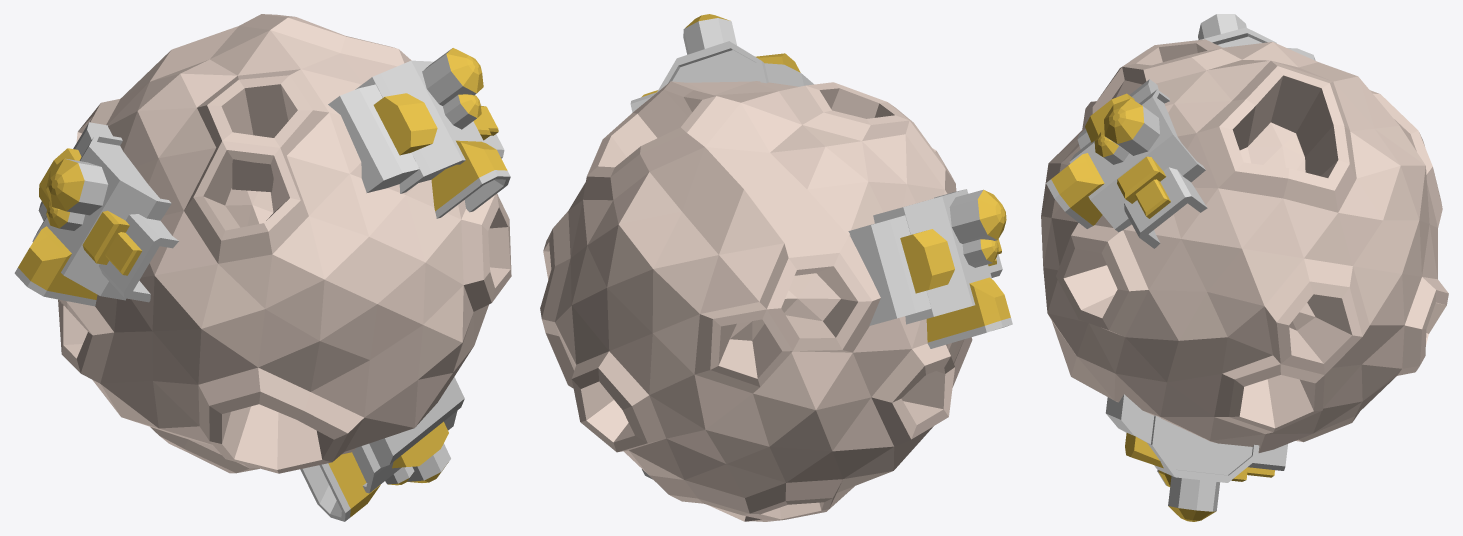
Rendered from moon_mine.fbx.
The picture shows the model from 3 angles, left to right: view 1: azimuth 30°, elevation 25°; view 2: azimuth 150°, elevation 25°; view 3: azimuth 270°, elevation 25°; orthographic projection. The views are drawn at different scales.
Visible parts, largest first — view 1: Icosphere.001, Mine1|Icosphere.002|Dupli|, Mine2|Icosphere.002|Dupli|, Mine3|Icosphere.002|Dupli|; view 2: Icosphere.001, Mine2|Icosphere.002|Dupli|, Mine1|Icosphere.002|Dupli|; view 3: Icosphere.001, Mine1|Icosphere.002|Dupli|, Mine3|Icosphere.002|Dupli|, Mine2|Icosphere.002|Dupli|.
Part boxes in pixels (x1,y1,x2,y2): Icosphere.001: [58, 14, 511, 473]; Mine1|Icosphere.002|Dupli|: [328, 48, 510, 218]; Mine2|Icosphere.002|Dupli|: [14, 122, 178, 306]; Mine3|Icosphere.002|Dupli|: [300, 377, 464, 521]; Icosphere.001: [540, 81, 972, 521]; Mine2|Icosphere.002|Dupli|: [848, 189, 1012, 348]; Mine1|Icosphere.002|Dupli|: [630, 14, 813, 112]; Icosphere.001: [1041, 39, 1448, 452]; Mine1|Icosphere.002|Dupli|: [1046, 79, 1207, 248]; Mine3|Icosphere.002|Dupli|: [1105, 394, 1287, 521]; Mine2|Icosphere.002|Dupli|: [1198, 14, 1315, 60].
Size of the model in its own units: 1148 by 1108 by 959.
